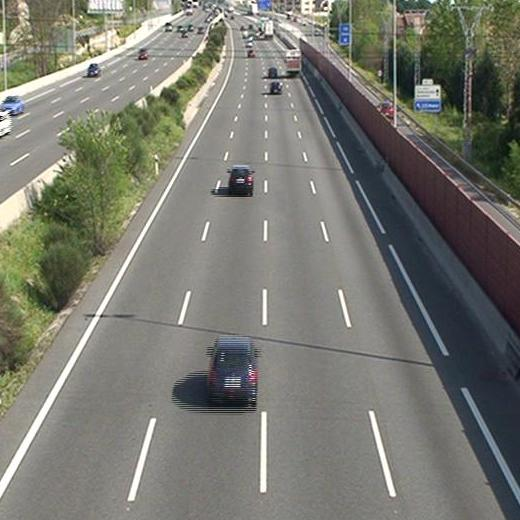car: (208, 336, 258, 401), (227, 165, 253, 193), (270, 80, 280, 95), (267, 67, 277, 77)
small-truck: (285, 48, 300, 75)
